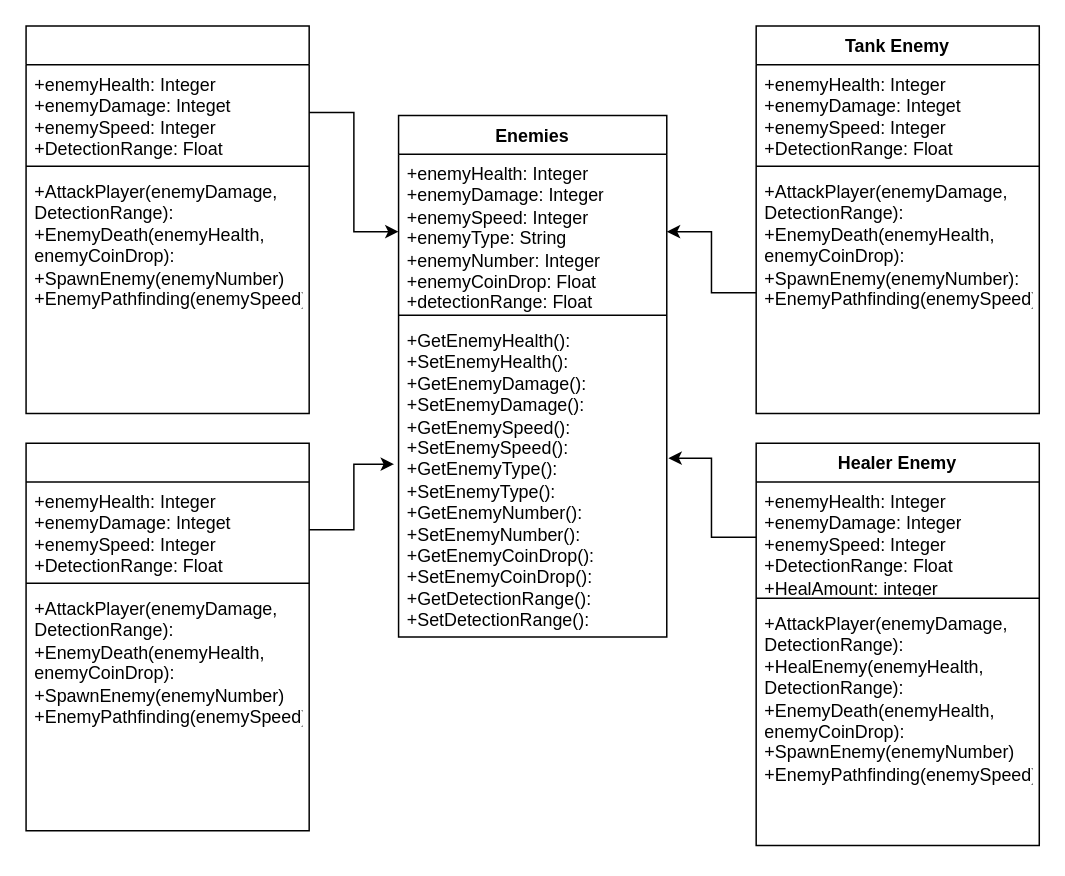
Image size: 1065x876. Some labels were removed from this diagram. Here are the shapes that lost their labels. From the top down, the box of each, then its label:
(25, 25, 309, 413): Melee Enemy
(25, 442, 309, 831): Ranged Enemy
